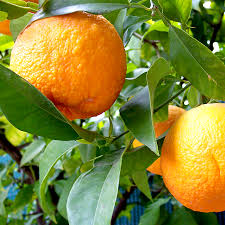orange: (12, 10, 128, 123), (160, 100, 225, 212)
